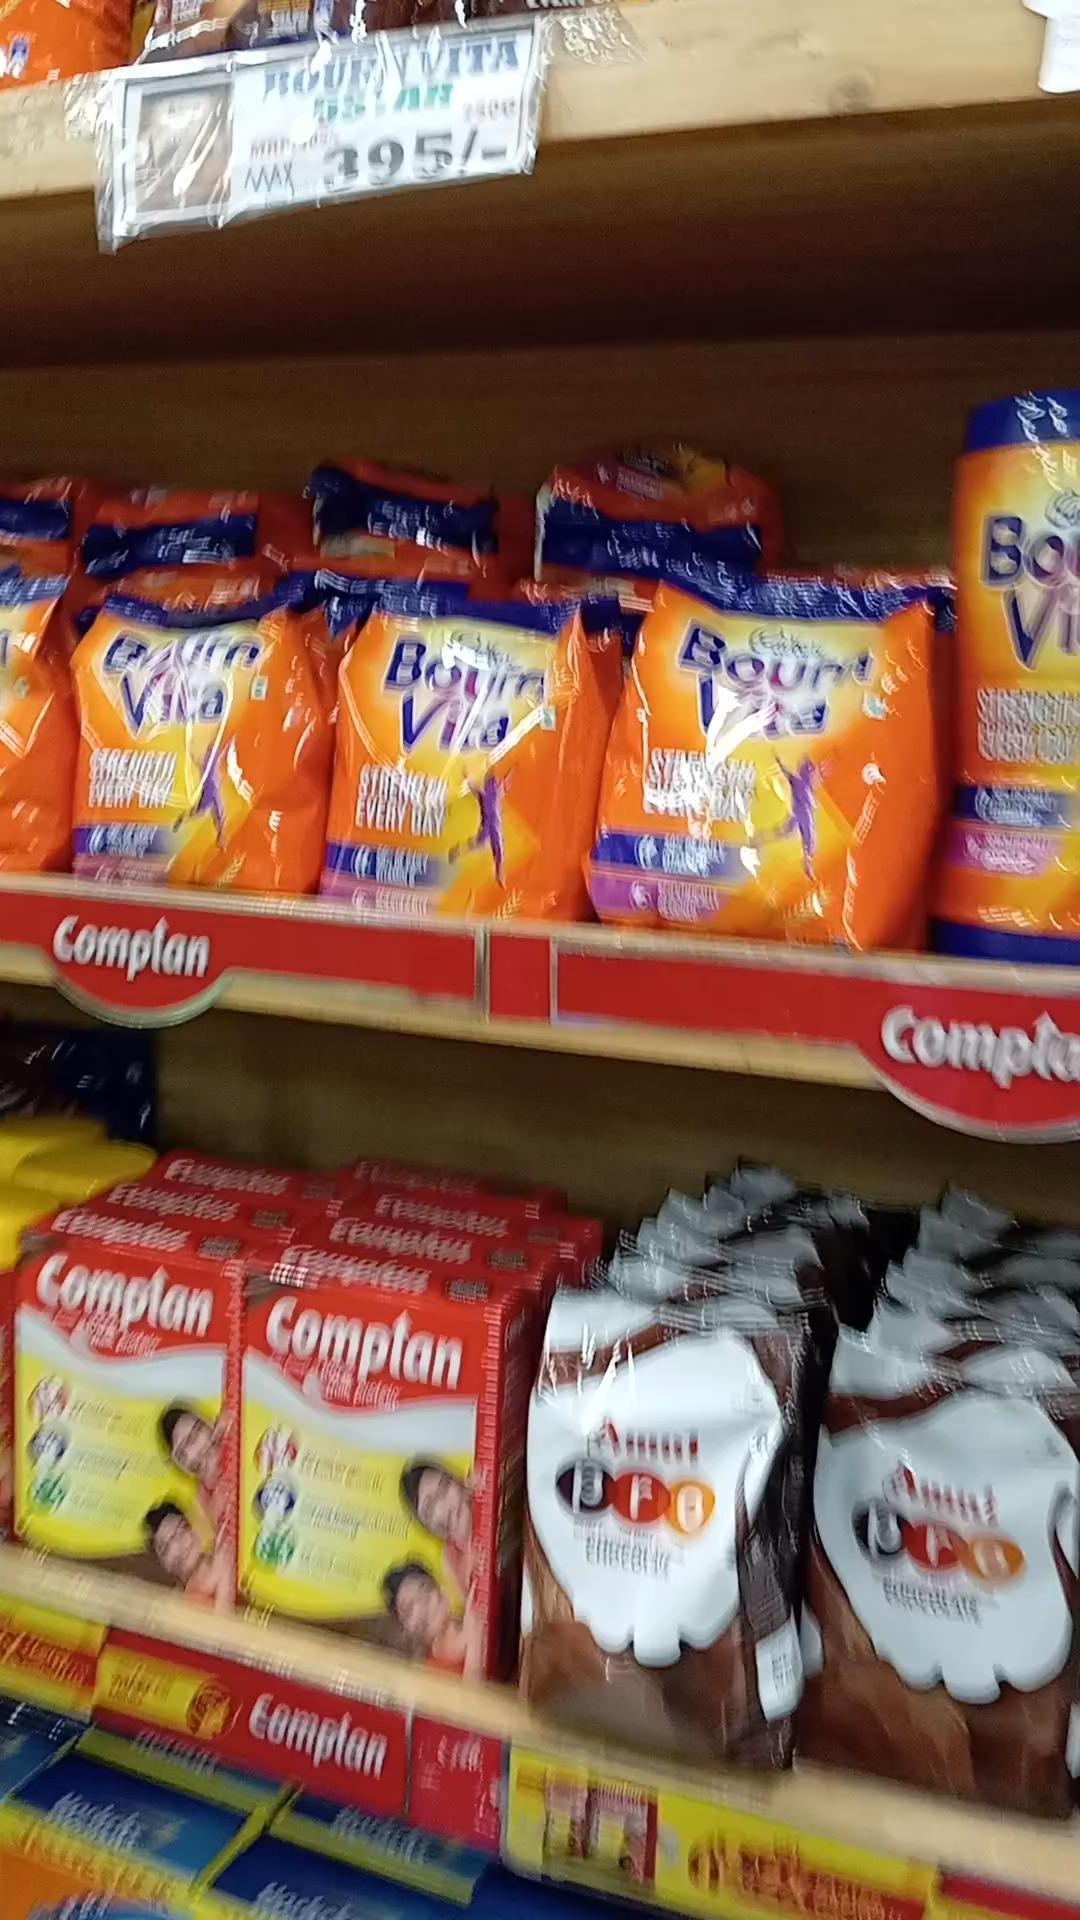BOURN_VITA_500_G_POUCH: (620, 554, 926, 936), (342, 566, 568, 934), (80, 579, 305, 890)
COMPLAN_CHOCOLATE_500_GMS_PACK: (249, 1276, 476, 1684), (15, 1242, 236, 1576)
